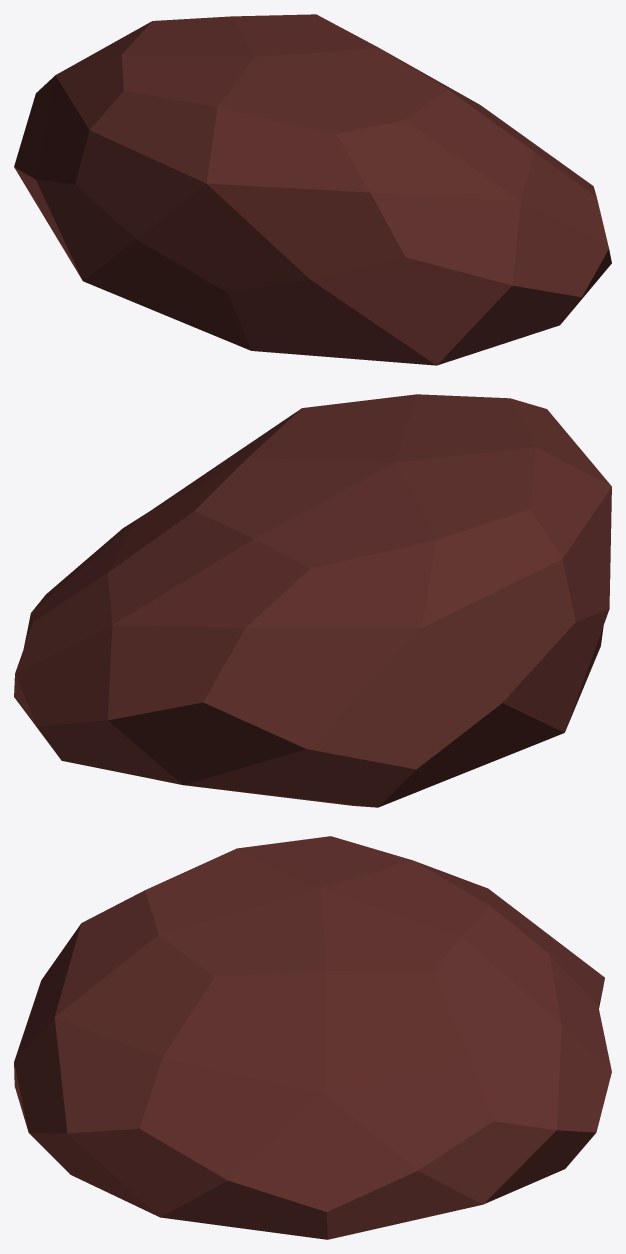
File: Rock_4_Red.fbx
3 views of the same model, one above another, from view 1: azimuth 30°, elevation 25°; view 2: azimuth 150°, elevation 25°; view 3: azimuth 270°, elevation 25° (orthographic). The views are drawn at different scales.
Parts seen in each view (by area): view 1: Rock_4_Red; view 2: Rock_4_Red; view 3: Rock_4_Red.
Part boxes in pixels (x1,y1,x2,y2): Rock_4_Red: (14, 14, 611, 365); Rock_4_Red: (14, 394, 611, 807); Rock_4_Red: (14, 836, 611, 1239).
Size of the model in its own units: 344 by 168 by 391.
